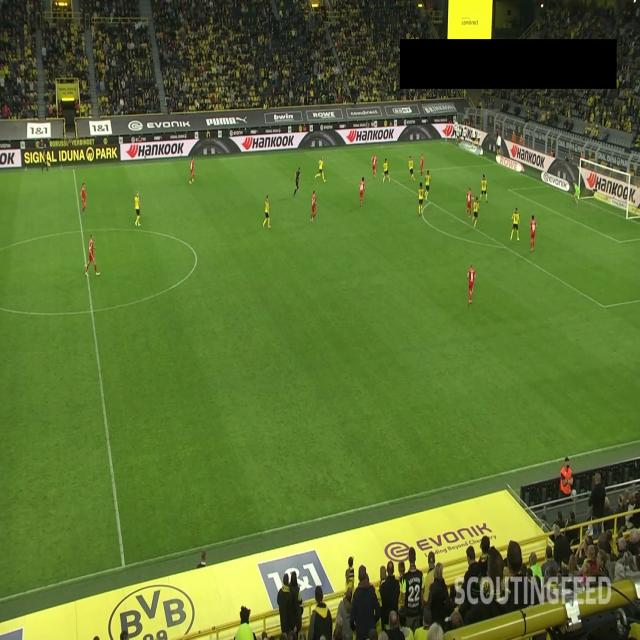goalkeeper: (573, 179, 581, 207)
player: (85, 233, 100, 276), (467, 264, 476, 308), (510, 206, 520, 241), (262, 194, 271, 229), (134, 190, 142, 228), (529, 214, 537, 251), (315, 156, 326, 182), (479, 174, 488, 203), (472, 196, 480, 228), (382, 157, 391, 184), (466, 186, 473, 218), (80, 182, 87, 214), (424, 169, 431, 199), (418, 182, 424, 217), (408, 156, 416, 182), (310, 190, 316, 222), (359, 176, 365, 207), (418, 153, 425, 179), (371, 155, 378, 179), (189, 156, 195, 184)
referee: (293, 166, 301, 198), (41, 143, 48, 172)
